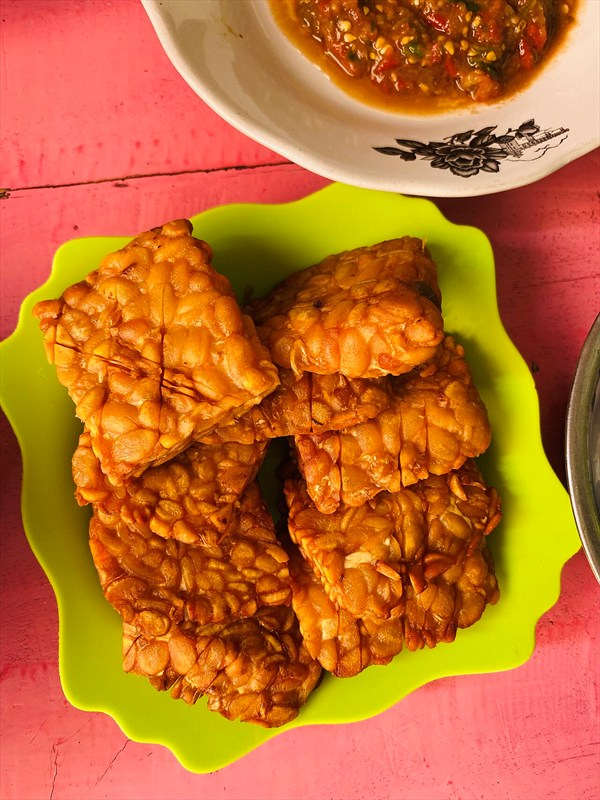Tempe Goreng: (73, 185, 527, 695)
